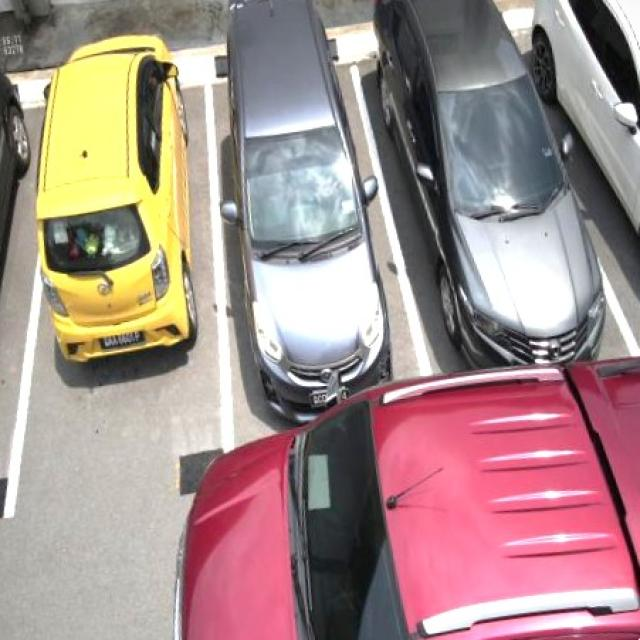Legalparking: (375, 0, 605, 366), (216, 0, 390, 421), (37, 37, 197, 360), (531, 0, 639, 233)
illegalparking: (175, 358, 639, 639)
